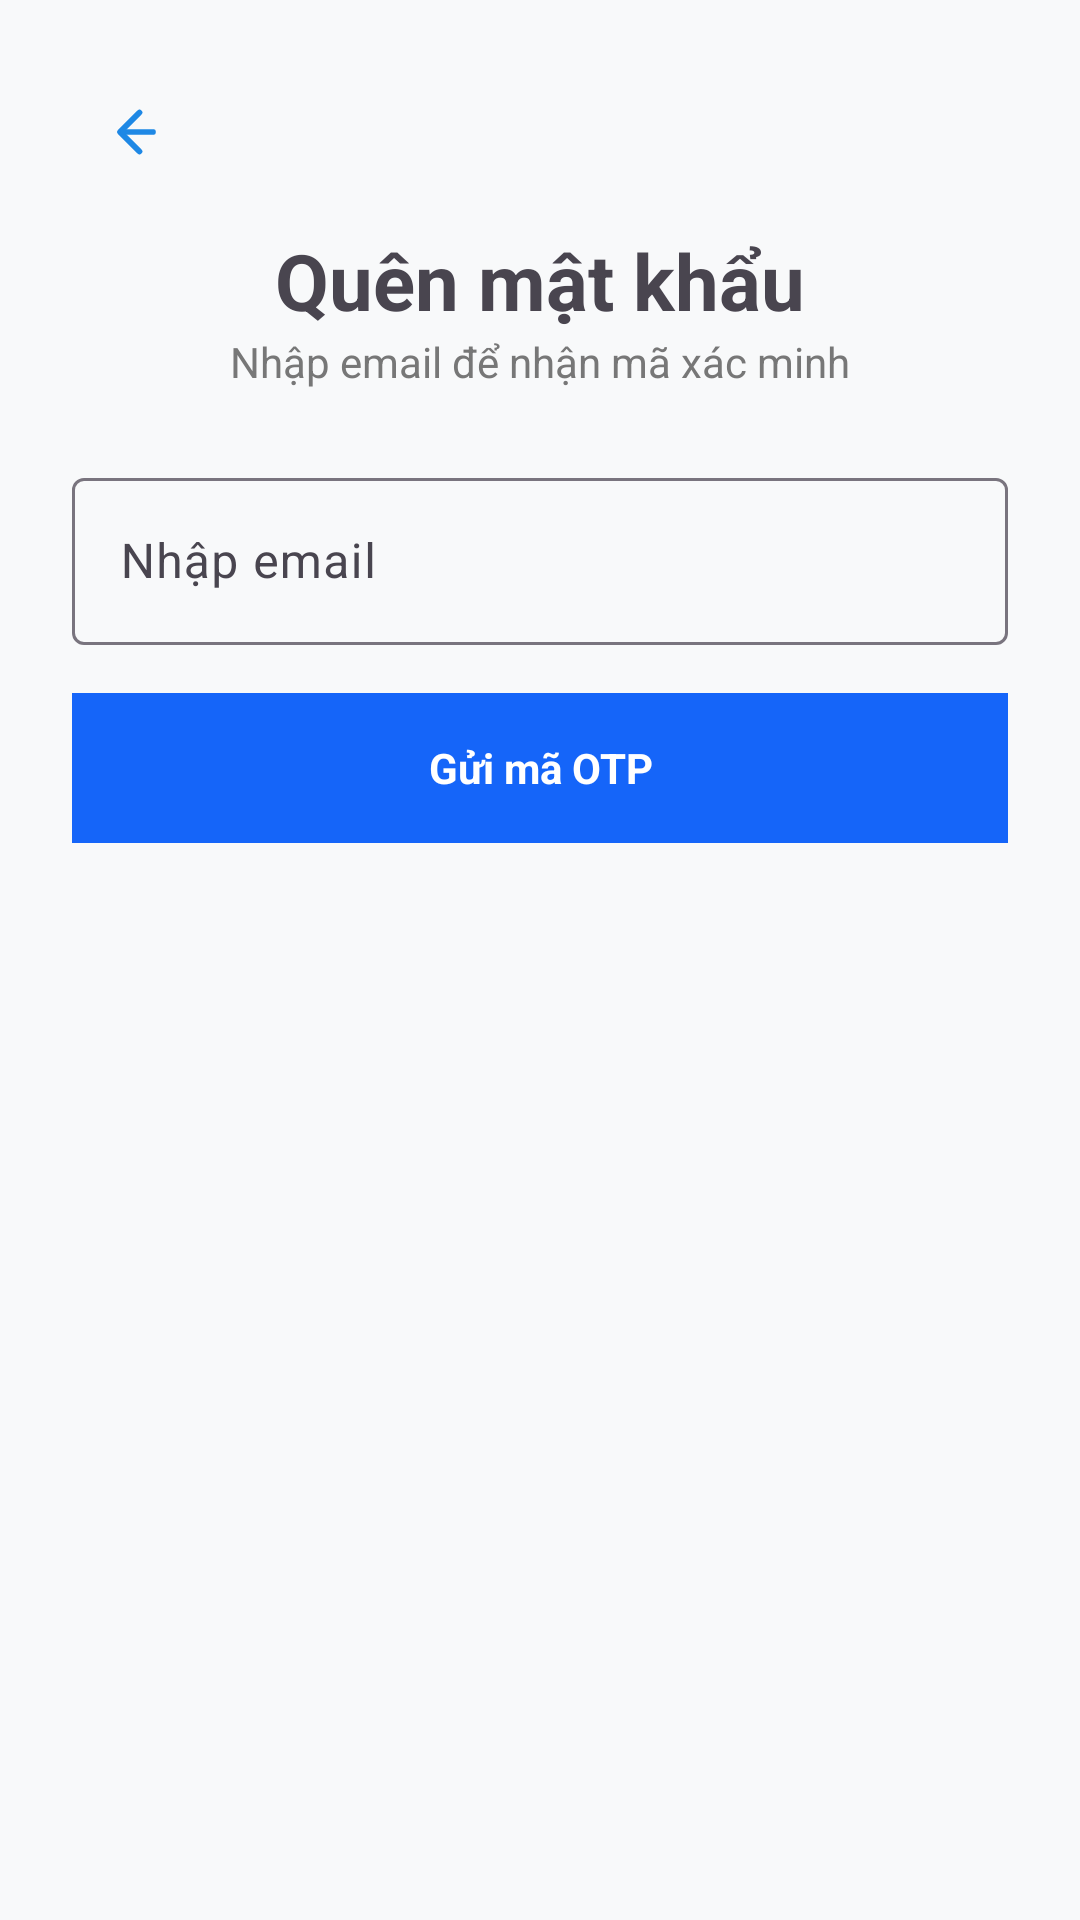

Named icons in this screenshot (1080w x 1920h) and their centers, [x,y]:
Back: [136,132]
